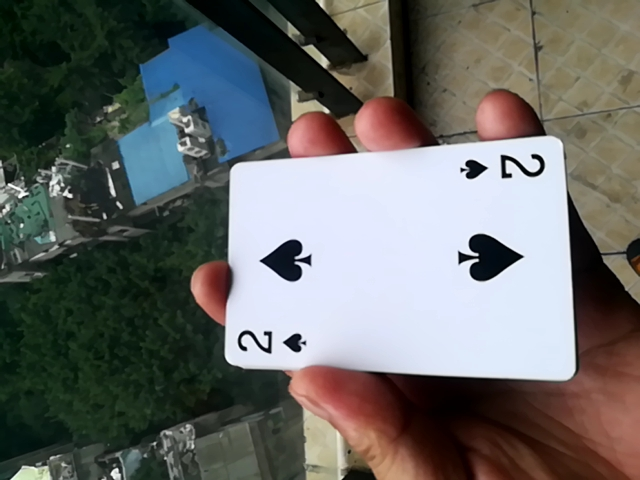ht 2: (231, 136, 569, 387)
